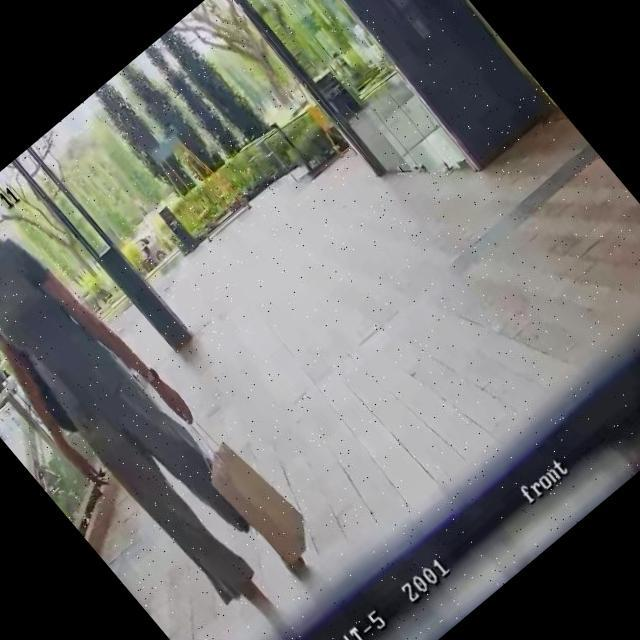person: (0, 175, 325, 640)
